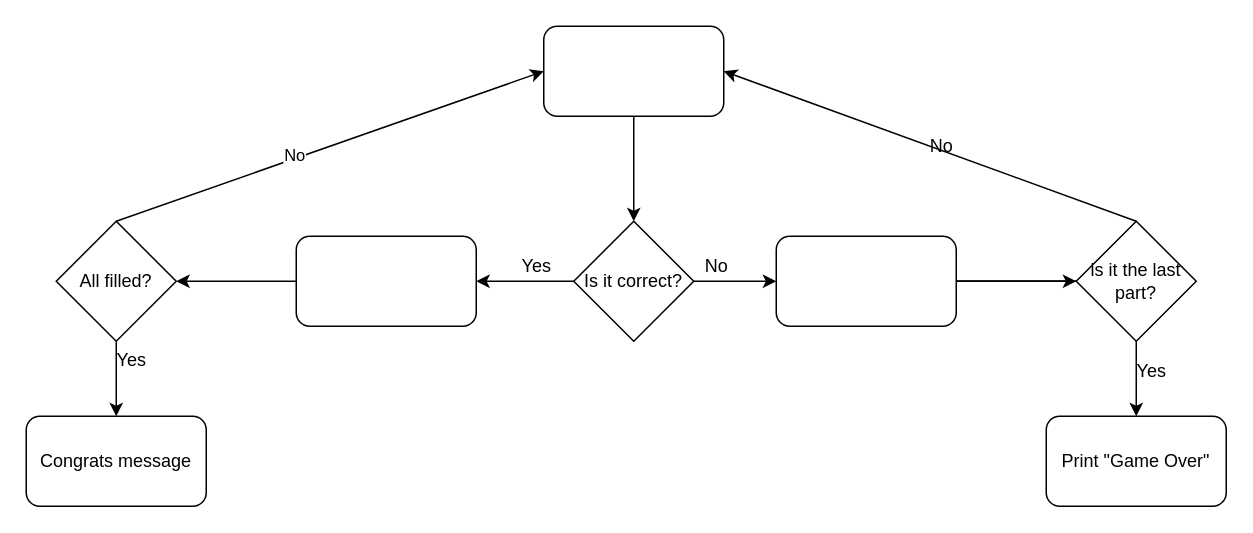
Image size: 1253x533. Some labels were removed from this diagram. The shapes that lost their labels are listed below. From the top down, each one's box as (x1, y1, x2, y2) in pixels, then its label:
(542, 25, 724, 116): Guess a letter
(295, 235, 476, 326): Fill every correct letter corresponding to the word(s)
(775, 235, 956, 326): Draw an additional part to hang man
